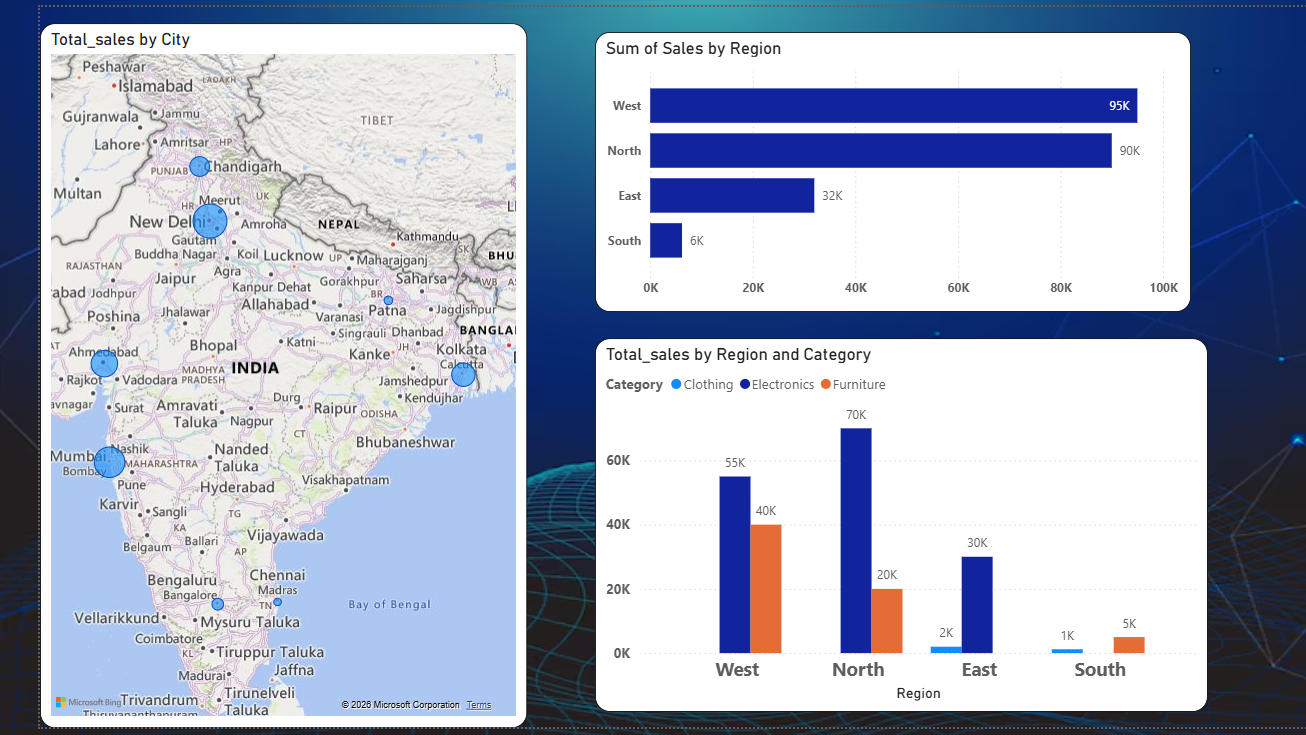

This screenshot's page, from the dashboard's own definition file:
{"tool":"powerbi","page":{"name":"Regional Summary","canvas":[1280,720],"ordinal":1},"visuals":[{"type":"map","fields":{"Category":["Table.City"],"Size":["Table.Total_sales"]},"box":[0,15.7,487.4,704.6],"z":0},{"type":"clusteredBarChart","fields":{"Category":["Table.Region"],"Y":["Sum(Table.Sales)"]},"box":[555,25.3,596,279.9],"z":1000},{"type":"clusteredColumnChart","fields":{"Category":["Table.Region"],"Y":["Table.Total_sales"],"Series":["Table.Category"]},"box":[555,331.8,612.9,374],"z":2000}]}

Visuals, with their boxes in screenshot pixels (x1, y1, x2, y2), scaled from the page's 1280x720 canvas onto the 1306x735 screenshot:
map - Table.City x Table.Total_sales: Rect(0, 16, 497, 734)
clusteredBarChart - Table.Region x Sum(Table.Sales): Rect(566, 26, 1174, 312)
clusteredColumnChart - Table.Region x Table.Total_sales: Rect(566, 339, 1192, 721)
